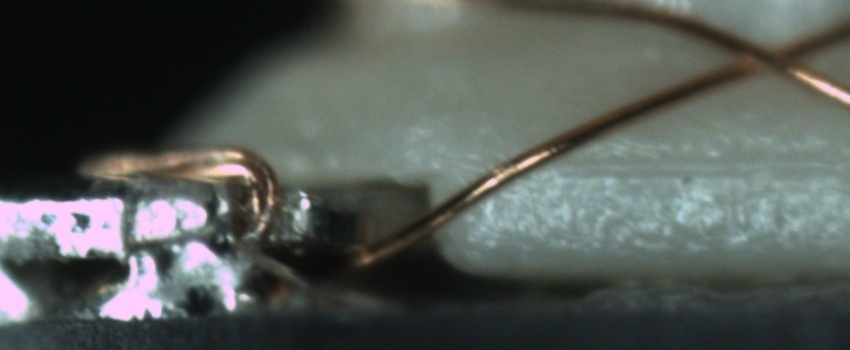CL: (719, 26, 822, 86)
DL: (543, 132, 849, 199)
TE: (74, 141, 284, 233)
